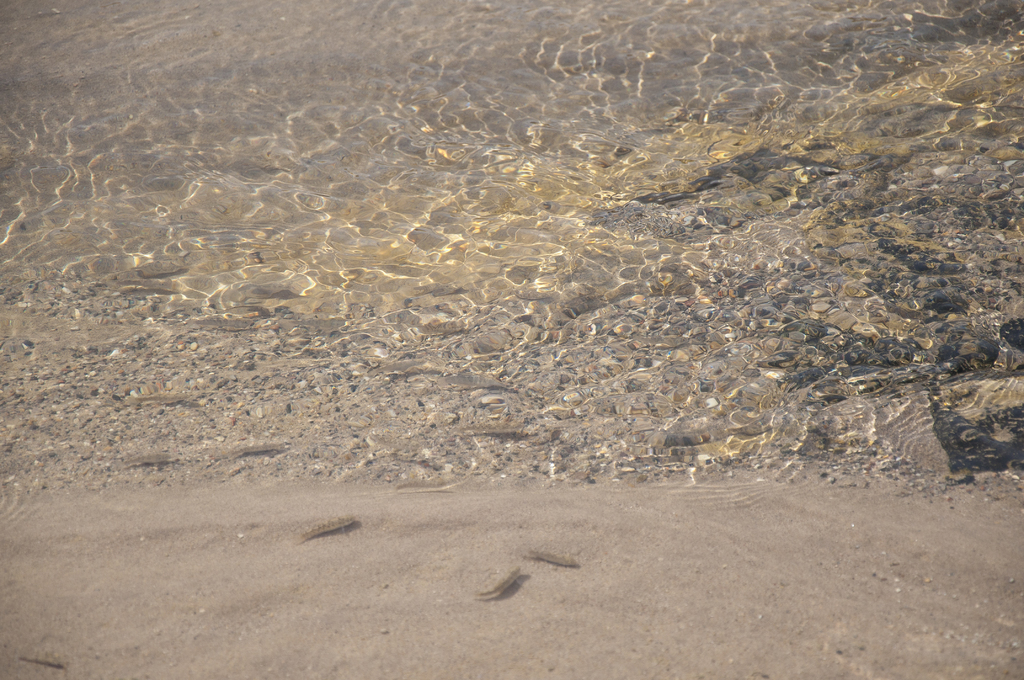Animal: (470, 564, 522, 599), (300, 516, 355, 541), (521, 552, 575, 568)
